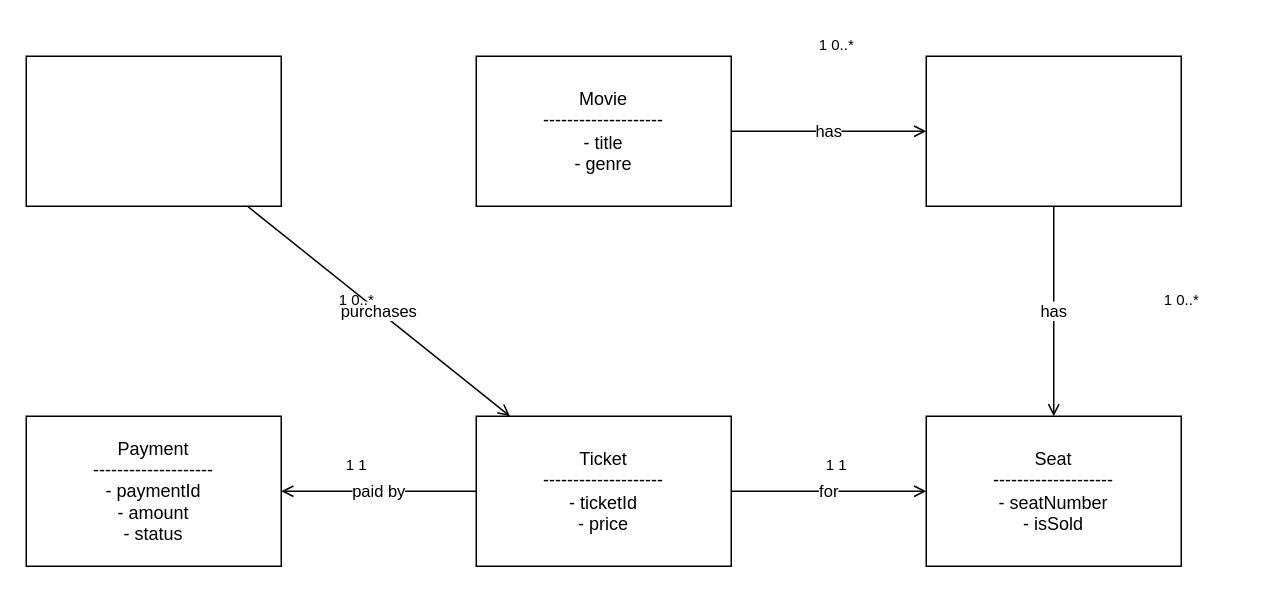
Image size: 1268x593. Some labels were removed from this diagram. Each missing label, with the centre of its shape:
"Customer -------------------- - customerId - name" goes at (x=153, y=130).
"Showtime -------------------- - showtimeId - startTime" goes at (x=1053, y=130).
